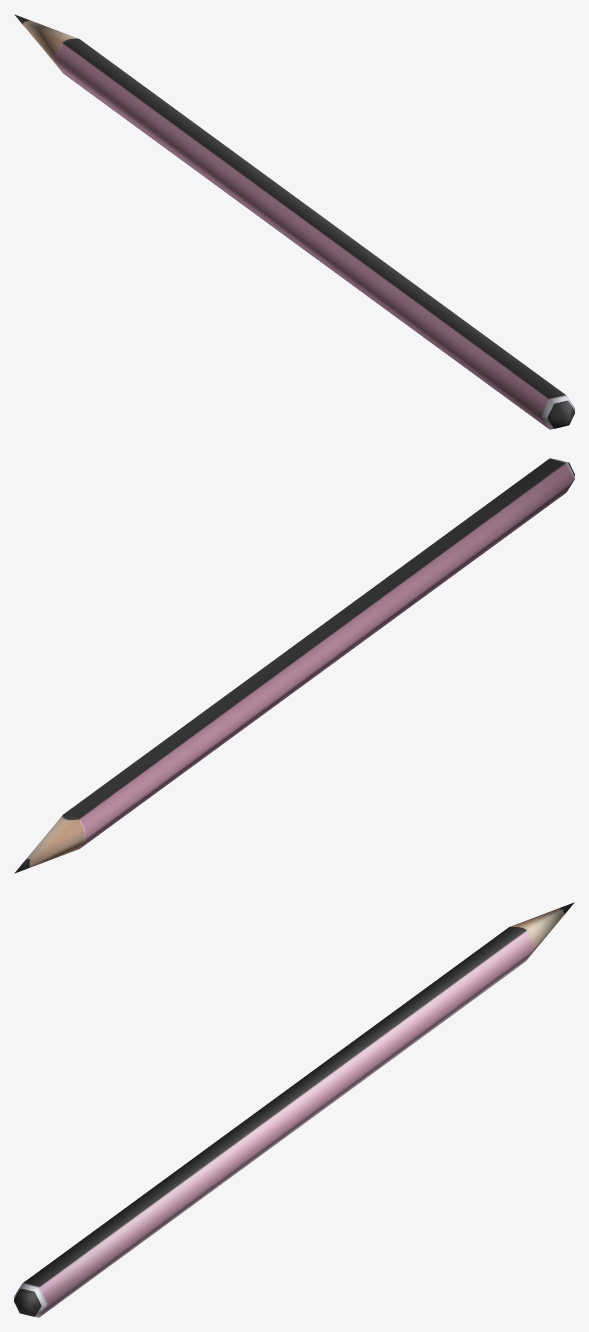
The model's file is ShaShouJia_01_qianbi_01.FBX.
The picture shows the model from 3 angles, top to bottom: view 1: azimuth 30°, elevation 25°; view 2: azimuth 150°, elevation 25°; view 3: azimuth 330°, elevation 25°; orthographic projection.
Parts seen in each view (by area): view 1: ShaShouJia_01_qianbi_01; view 2: ShaShouJia_01_qianbi_01; view 3: ShaShouJia_01_qianbi_01.
Boxes of the visible parts, x1,y1,x2,y2 form: ShaShouJia_01_qianbi_01: [14, 14, 574, 429]; ShaShouJia_01_qianbi_01: [14, 458, 574, 873]; ShaShouJia_01_qianbi_01: [14, 902, 574, 1317].
Size of the model in its own units: 7.73 by 6.69 by 221.
